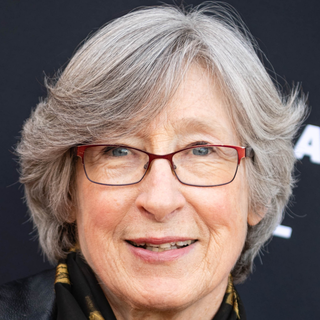eye: (172, 134, 232, 175), (87, 138, 142, 175)
